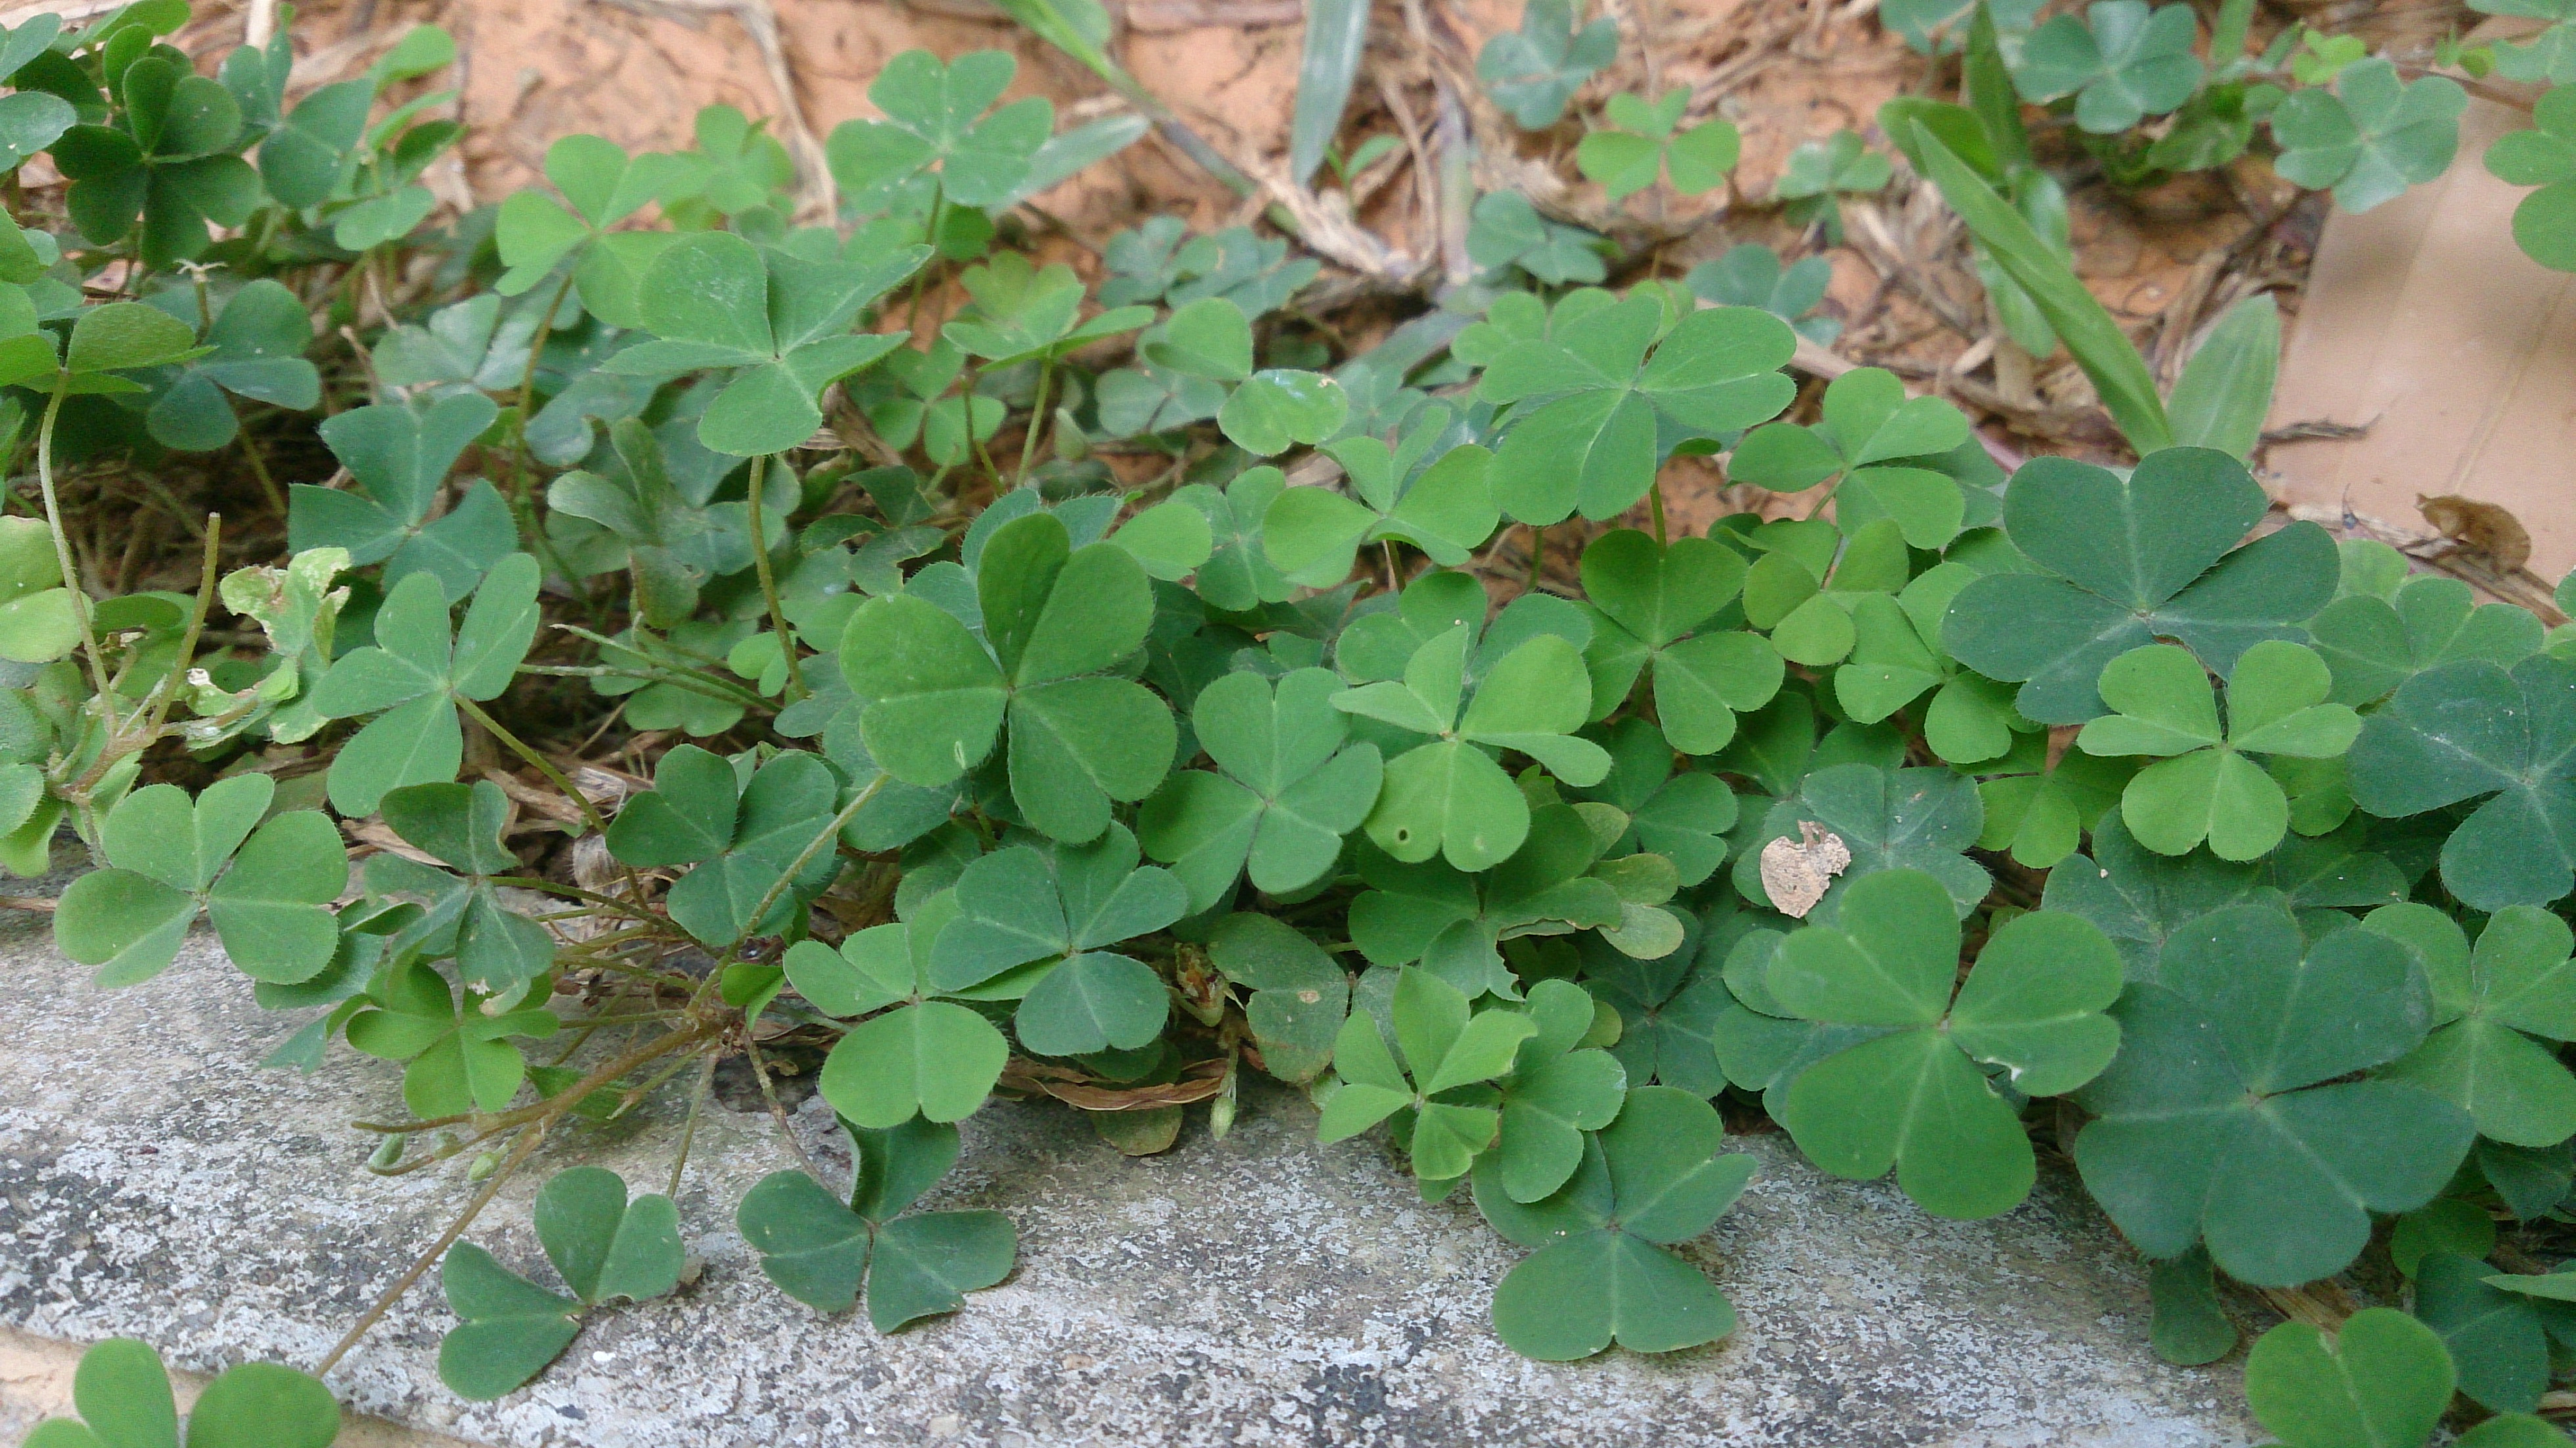oxalis: (368, 304, 2576, 1372)
